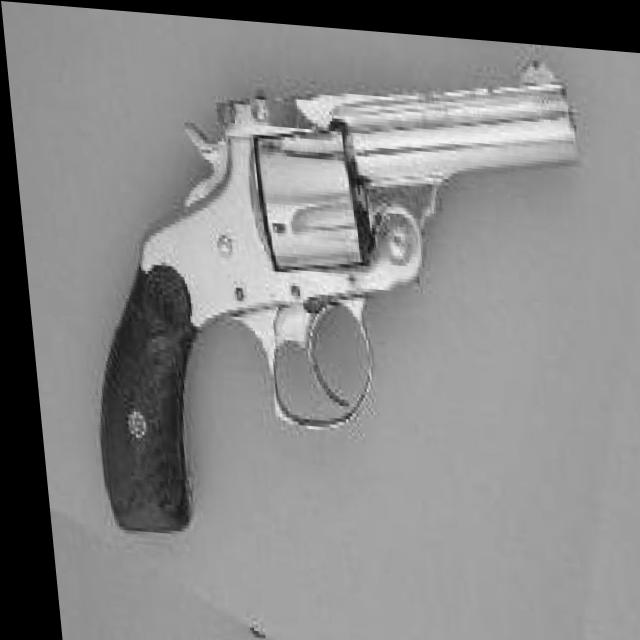handgun: (55, 20, 609, 563)
